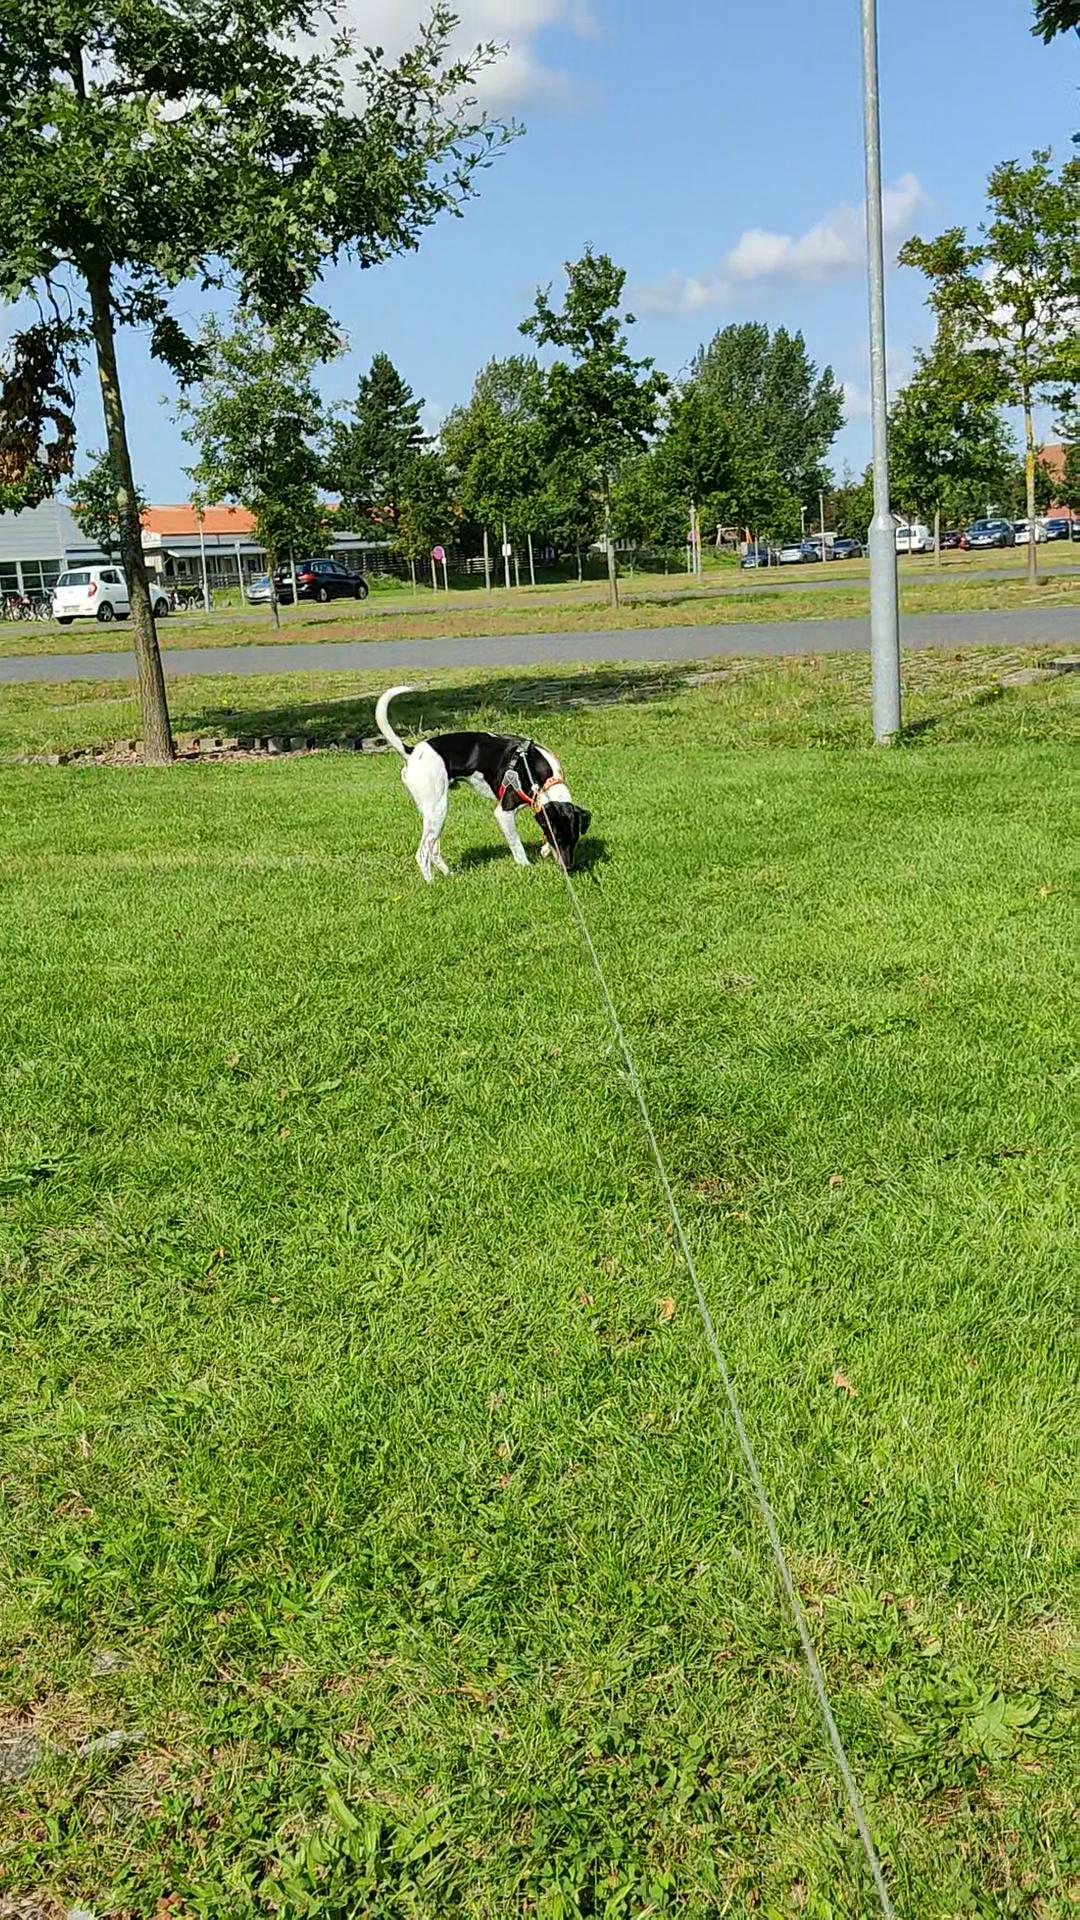Dog: (368, 680, 596, 885)
